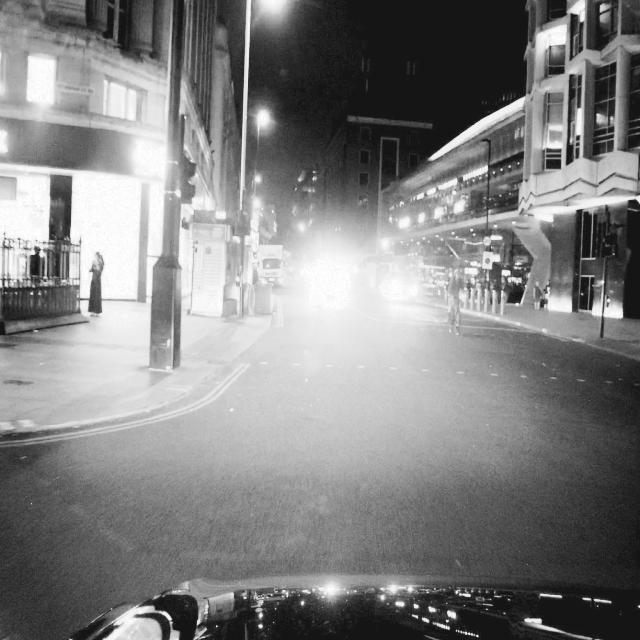Truck: (257, 245, 284, 284)
